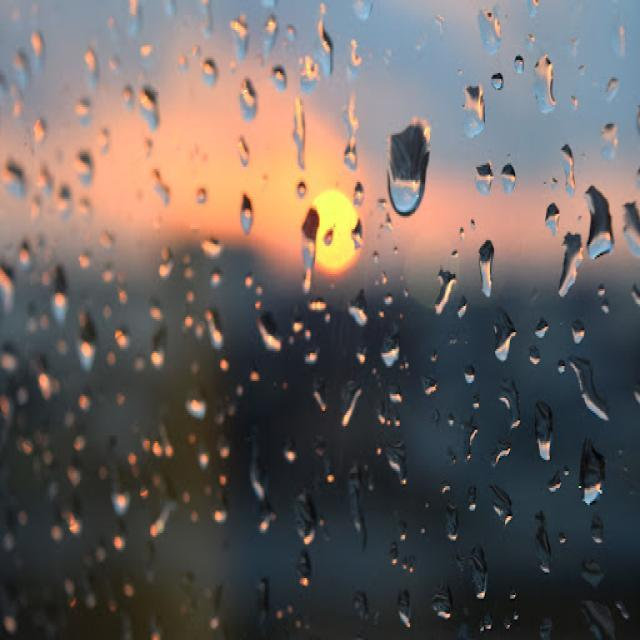raindrop: (376, 102, 439, 236), (580, 174, 618, 285), (566, 347, 616, 430), (296, 198, 330, 302), (550, 222, 593, 304), (528, 388, 562, 480), (575, 434, 613, 514), (458, 72, 494, 153), (462, 530, 496, 610), (487, 306, 524, 379), (476, 227, 503, 313), (482, 470, 518, 534), (441, 489, 467, 552)
